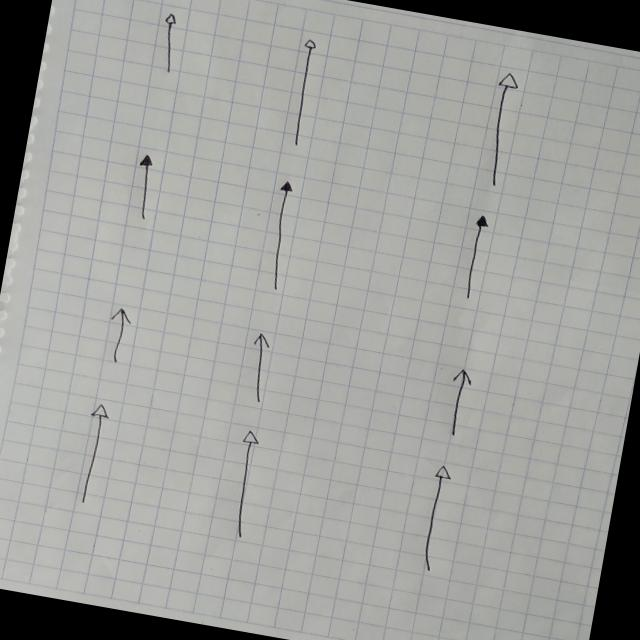arrow_line_up: (0, 408, 61, 526), (492, 448, 552, 556), (288, 270, 339, 380), (254, 434, 306, 541), (535, 162, 591, 260), (514, 292, 565, 394), (30, 254, 78, 357), (58, 118, 104, 210), (98, 0, 153, 76), (552, 52, 602, 134), (348, 20, 394, 106), (314, 134, 353, 216)
